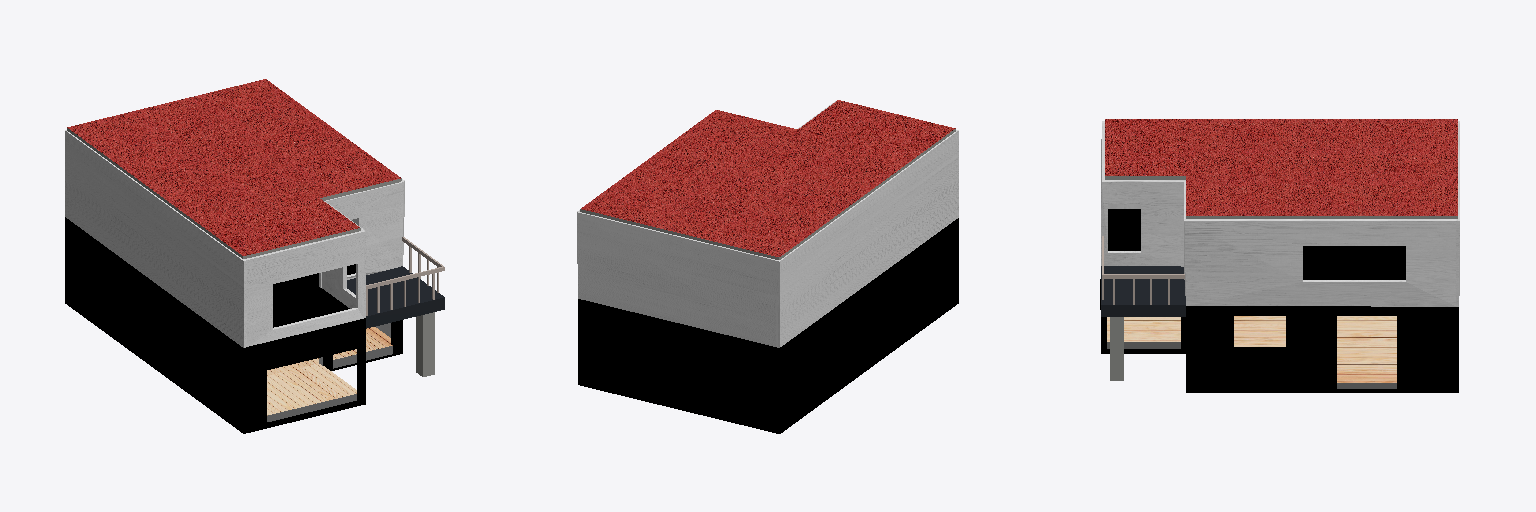
3 views of the same model, side by side, from view 1: azimuth 30°, elevation 25°; view 2: azimuth 150°, elevation 25°; view 3: azimuth 270°, elevation 25° (orthographic).
Visible parts, largest first — view 1: polySurface218; view 2: polySurface218; view 3: polySurface218.
Boxes of the visible parts, <box> form: polySurface218: <box>65,79,444,433</box>; polySurface218: <box>577,100,958,433</box>; polySurface218: <box>1100,119,1459,392</box>.
Size of the model in its own units: 12.45 by 10.29 by 19.07.
17 materials, 8 textured.